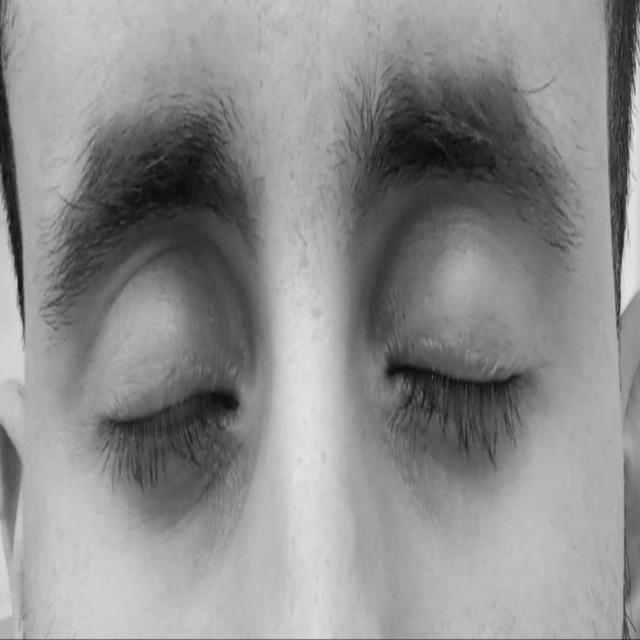real: (56, 188, 590, 528)
